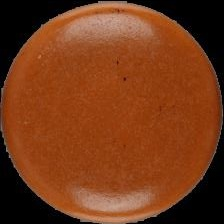0781-5915: (0, 0, 224, 224)
